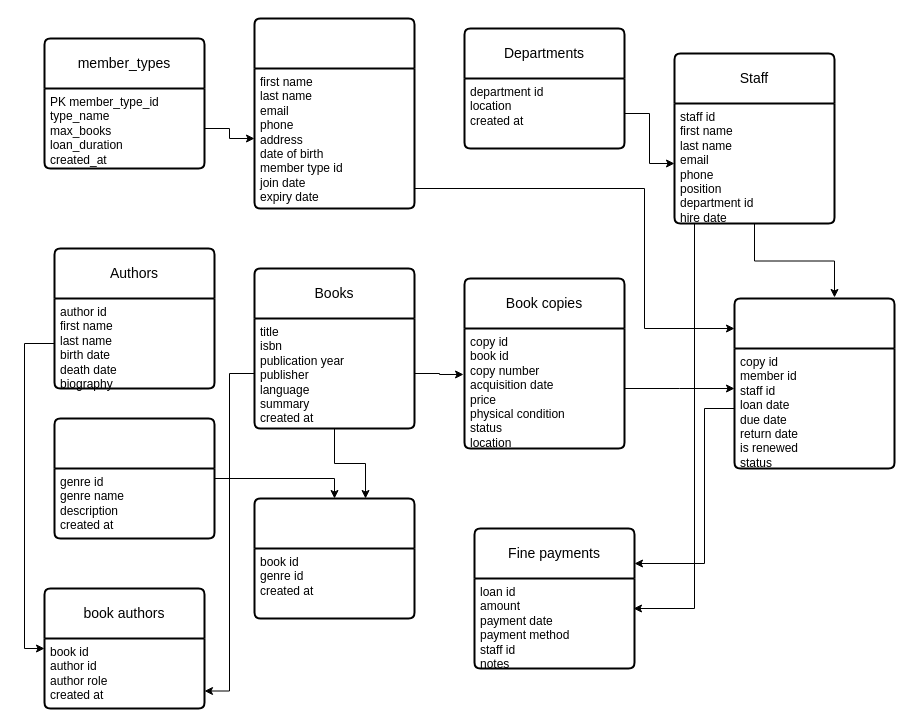
Image size: 913x726. Some labels were removed from this diagram. Each missing label, with the box of its shape:
Book genres: (253, 497, 415, 619)
Book loans: (733, 297, 895, 469)
Genres: (53, 417, 215, 539)
Members: (253, 17, 415, 209)
